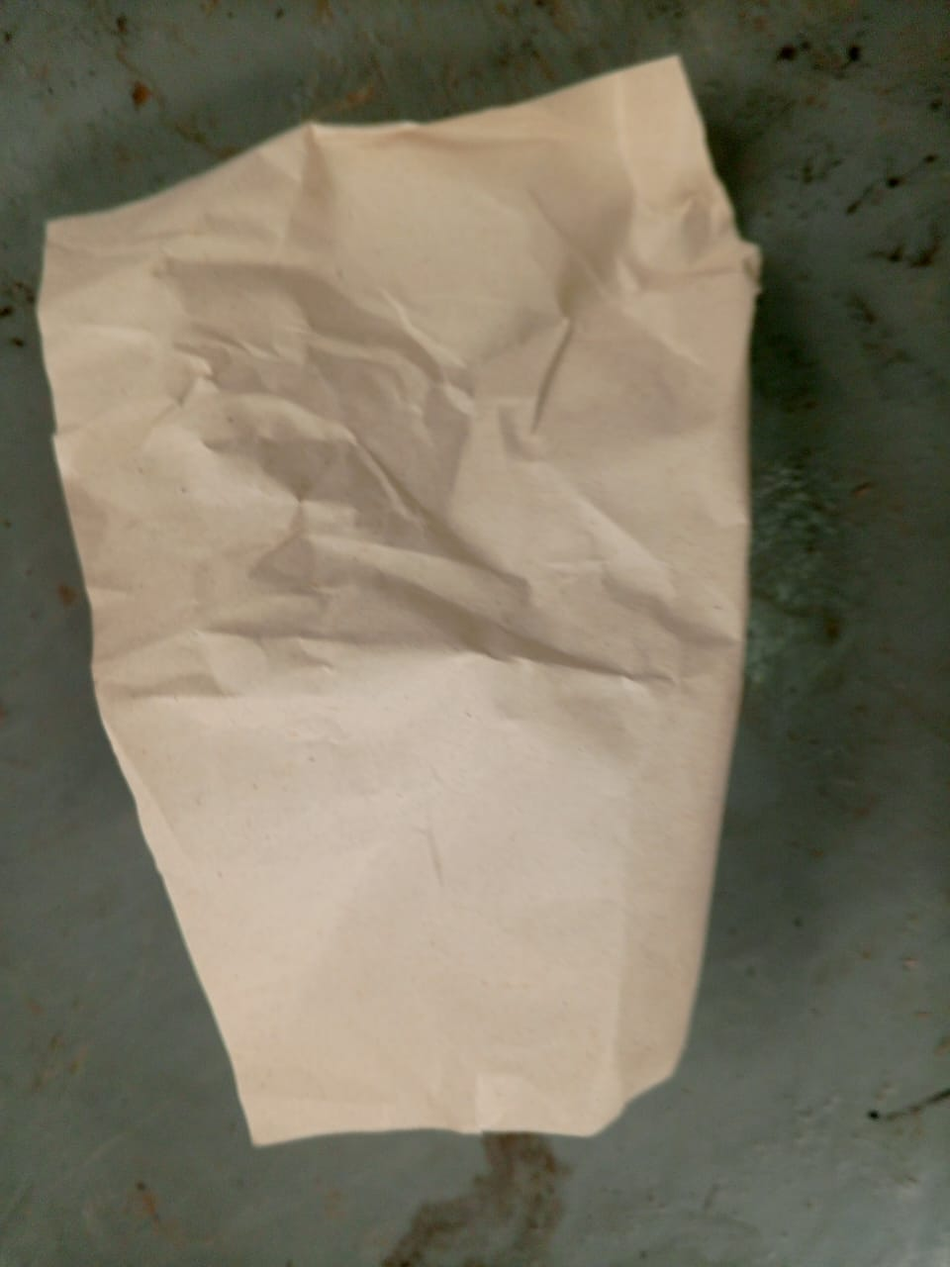Papel: (35, 57, 768, 1147)
